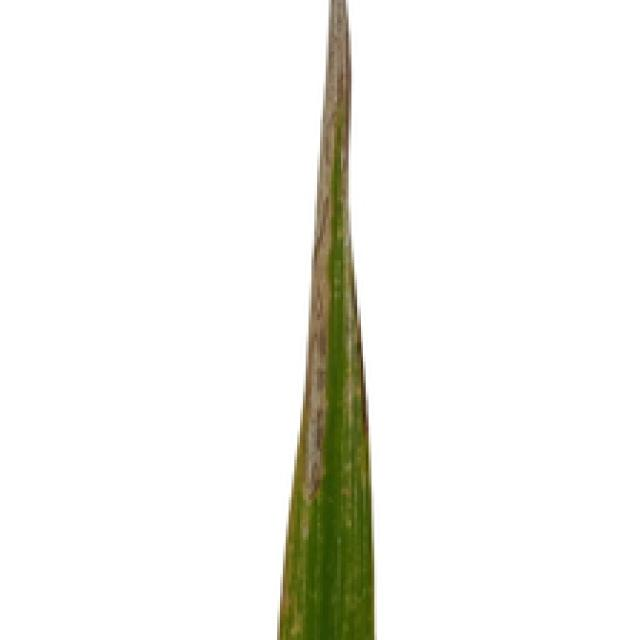Rice___Bacterial_Leaf_Blight: (276, 0, 373, 637)
